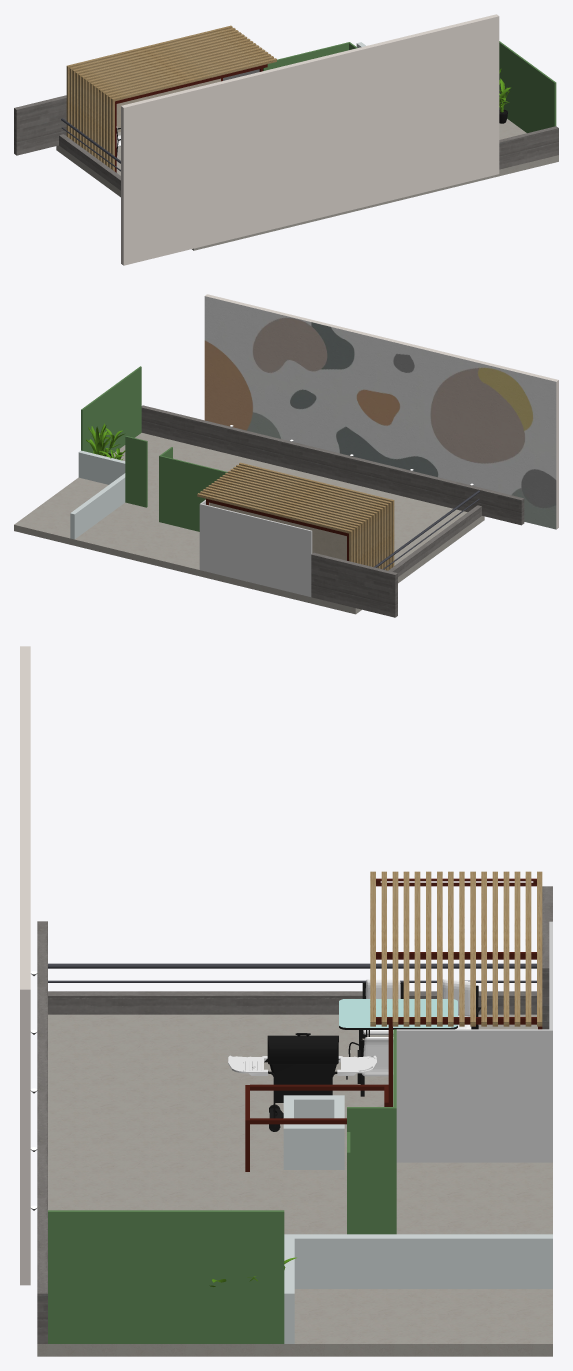
Rendered from tiber-transformed.glb.
The picture shows the model from 3 angles, top to bottom: view 1: azimuth 30°, elevation 25°; view 2: azimuth 150°, elevation 25°; view 3: azimuth 270°, elevation 25°; orthographic projection. The views are drawn at different scales.
Parts seen in each view (by area): view 1: Wall.004, Cube, IfcWall/Wall.011, Cube.001, Wall.003, Slab, Wall.001, Wall.002, IfcWall/Wall.005, IfcBeam/Beam.006, Plane.001, 0_mesh_.004; view 2: Wall.004, Slab, Wall.001, IfcWall/Wall.008, Cube, Wall.003, IfcWall/Wall.011, IfcWall/Wall.005, Cube.001, IfcWall/Wall.006, IfcWall/Wall.010, Wall.002 (+3 smaller); view 3: Slab, IfcWall/Wall.011, IfcWall/Wall.004, Cube, IfcWall/Wall.006, Wall.002, Wall.004, IfcWall/Wall.009, Entity_1_Mesh_0, Wall.001, Cylinder, IfcWall/Wall.015 (+7 smaller).
Boxes of the visible parts, bbox=[...] form: Wall.004: bbox=[121, 14, 499, 265]; Cube: bbox=[66, 25, 276, 101]; IfcWall/Wall.011: bbox=[499, 41, 556, 132]; Cube.001: bbox=[66, 69, 114, 171]; Wall.003: bbox=[14, 95, 66, 155]; Slab: bbox=[56, 119, 558, 250]; Wall.001: bbox=[499, 126, 558, 169]; Wall.002: bbox=[59, 134, 120, 190]; IfcWall/Wall.005: bbox=[263, 42, 350, 70]; IfcBeam/Beam.006: bbox=[115, 64, 267, 104]; Plane.001: bbox=[116, 78, 220, 132]; 0_mesh_.004: bbox=[499, 78, 510, 123]; Wall.004: bbox=[204, 294, 558, 529]; Slab: bbox=[14, 433, 484, 614]; Wall.001: bbox=[141, 405, 524, 525]; IfcWall/Wall.008: bbox=[201, 504, 312, 596]; Cube: bbox=[197, 462, 394, 533]; Wall.003: bbox=[311, 552, 397, 617]; IfcWall/Wall.011: bbox=[81, 366, 141, 453]; IfcWall/Wall.005: bbox=[159, 455, 227, 531]; Cube.001: bbox=[349, 503, 394, 570]; IfcWall/Wall.006: bbox=[70, 473, 125, 539]; IfcWall/Wall.010: bbox=[125, 436, 147, 507]; Wall.002: bbox=[388, 505, 481, 576]; Slab: bbox=[37, 1014, 552, 1356]; IfcWall/Wall.011: bbox=[48, 1210, 284, 1343]; IfcWall/Wall.004: bbox=[396, 1029, 552, 1162]; Cube: bbox=[370, 871, 542, 1026]; IfcWall/Wall.006: bbox=[284, 1234, 552, 1288]; Wall.002: bbox=[48, 991, 536, 1014]; Wall.004: bbox=[20, 646, 30, 1285]; IfcWall/Wall.009: bbox=[347, 1107, 393, 1234]; Entity_1_Mesh_0: bbox=[228, 1033, 376, 1131]; Wall.001: bbox=[37, 921, 47, 1343]; Cylinder: bbox=[48, 963, 536, 968]; IfcWall/Wall.015: bbox=[294, 1124, 344, 1169].
Bounding box in the file's own units: 14.05 × 4.9 × 7.68.
18 materials, 5 textured.
